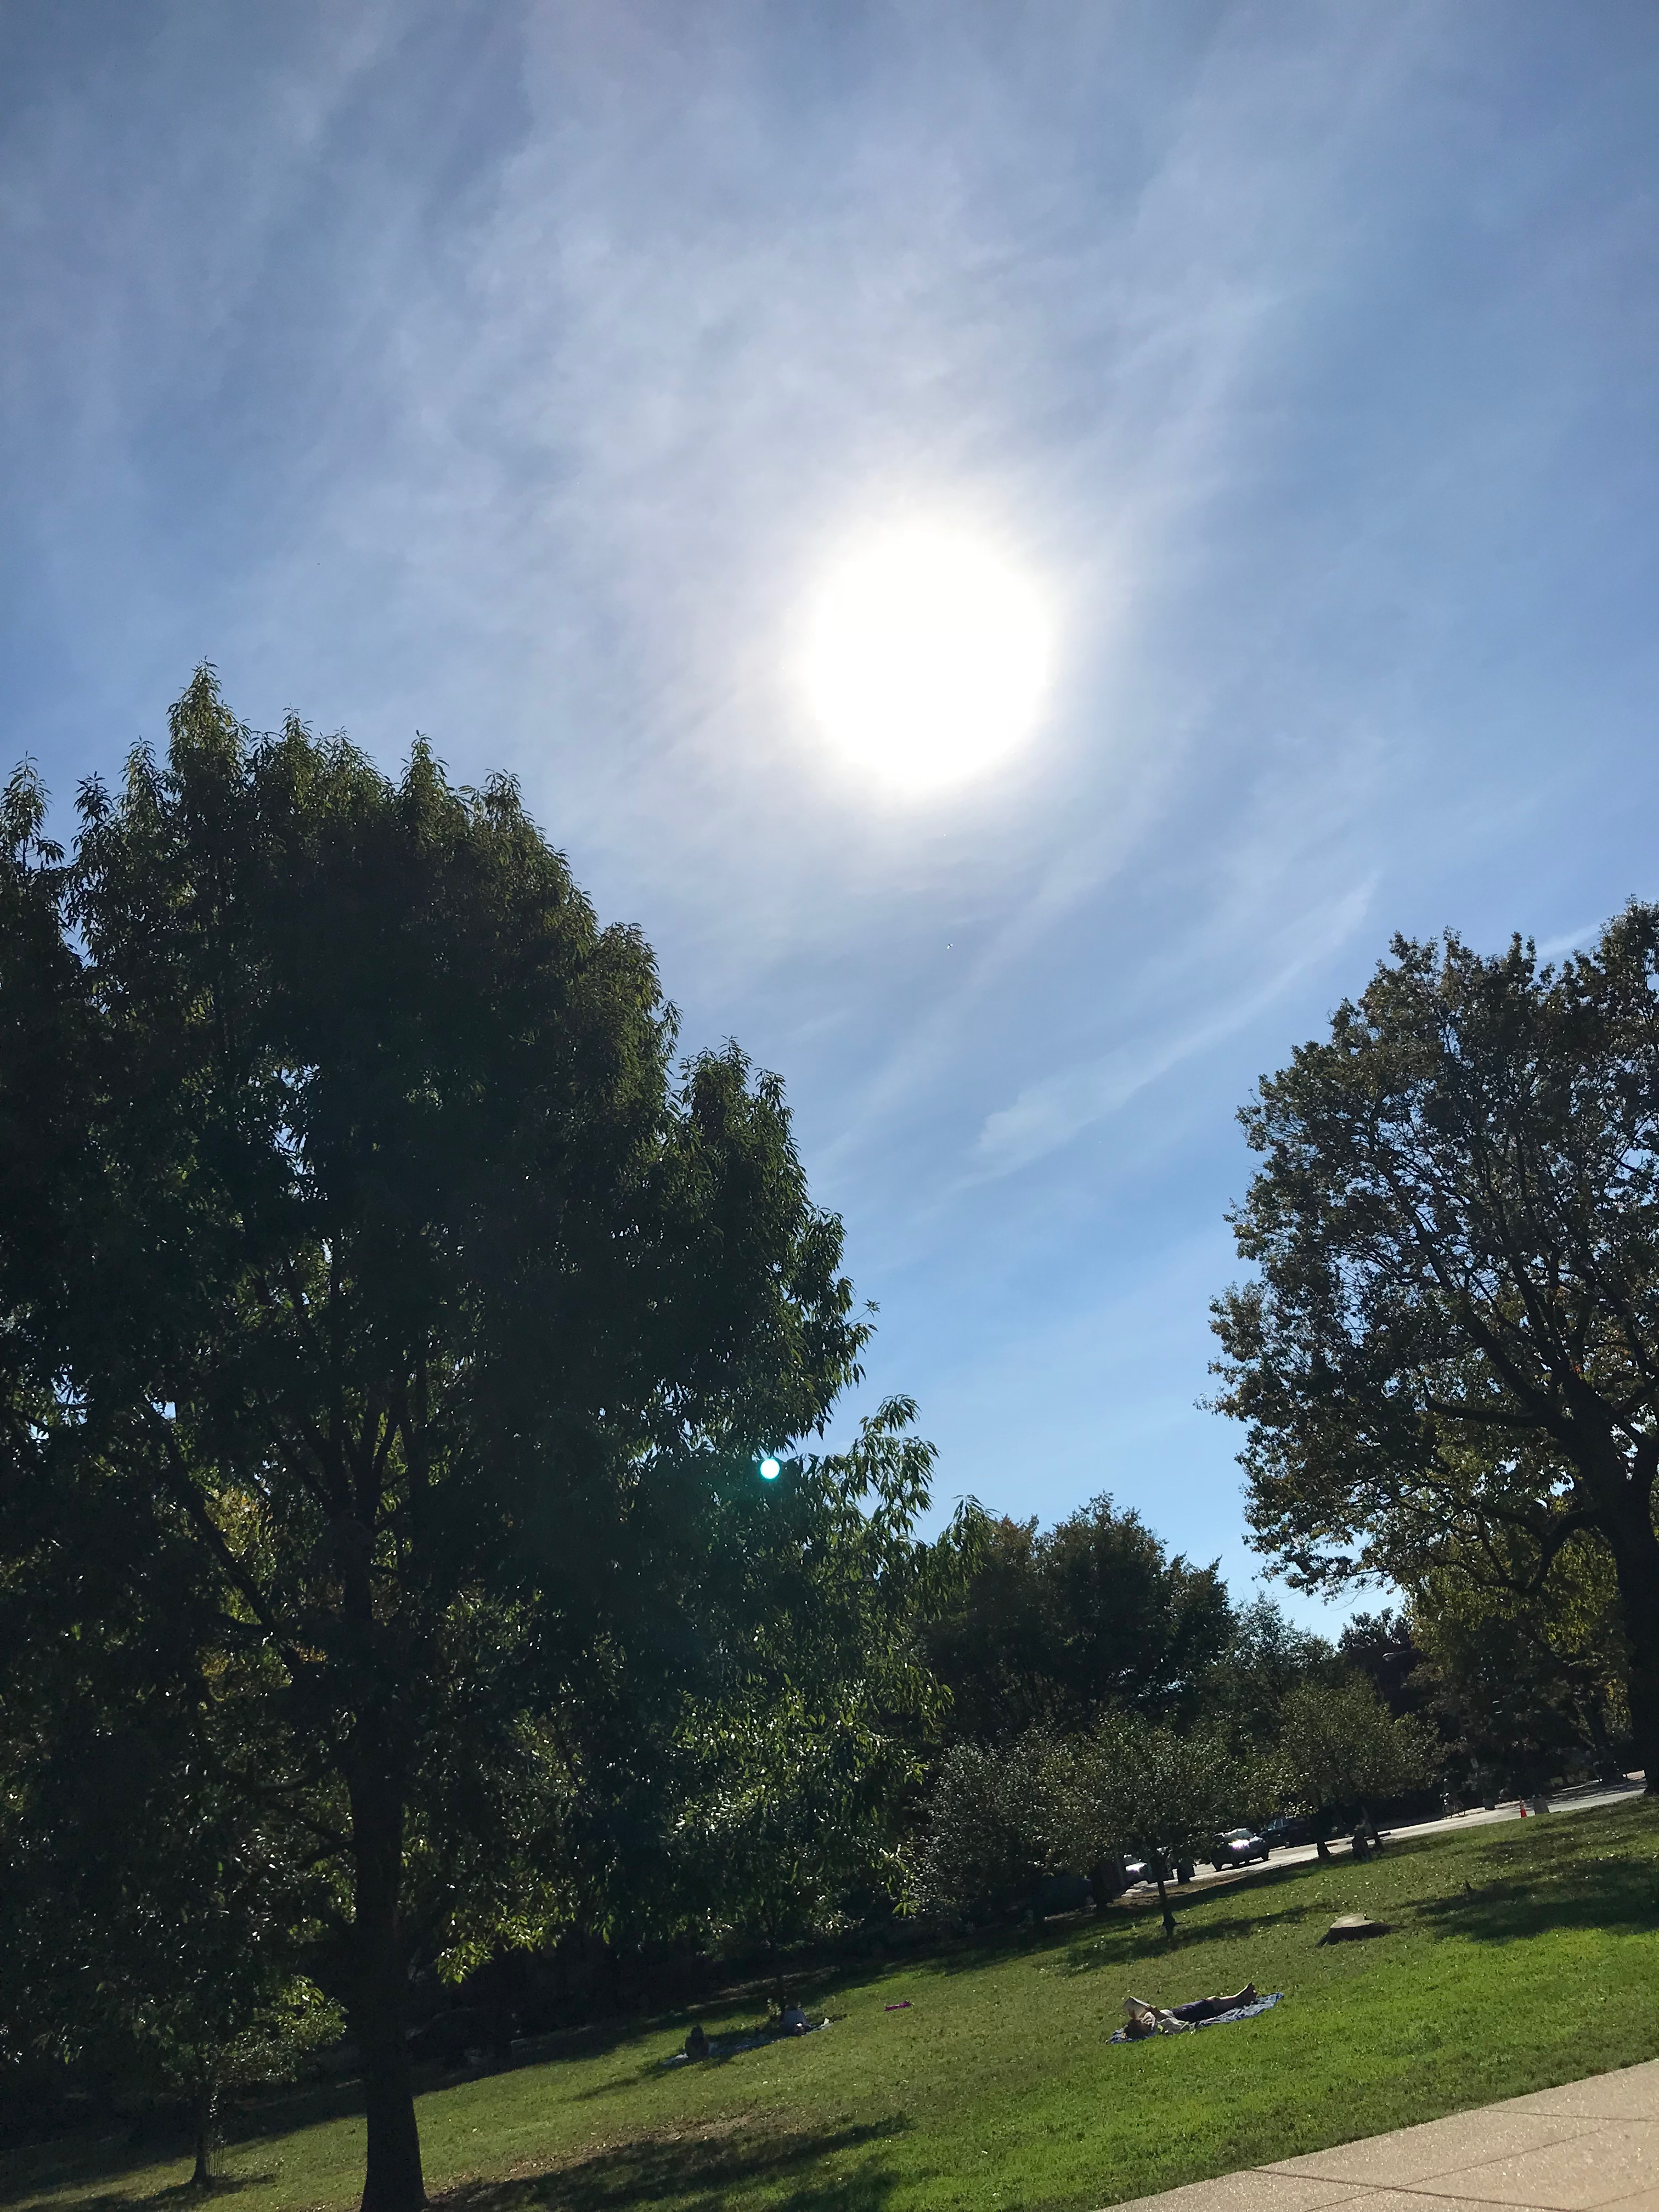flare: (760, 1458, 781, 1480)
